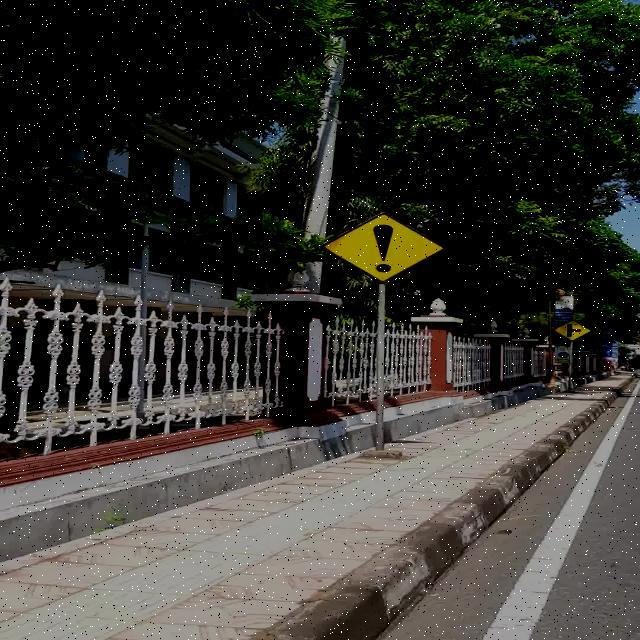Hati-Hati: (320, 212, 447, 284)
